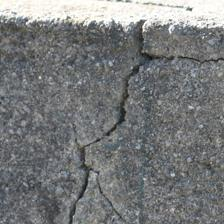Crack: (78, 60, 149, 169), (137, 22, 223, 69), (67, 166, 128, 222), (105, 1, 197, 17)
